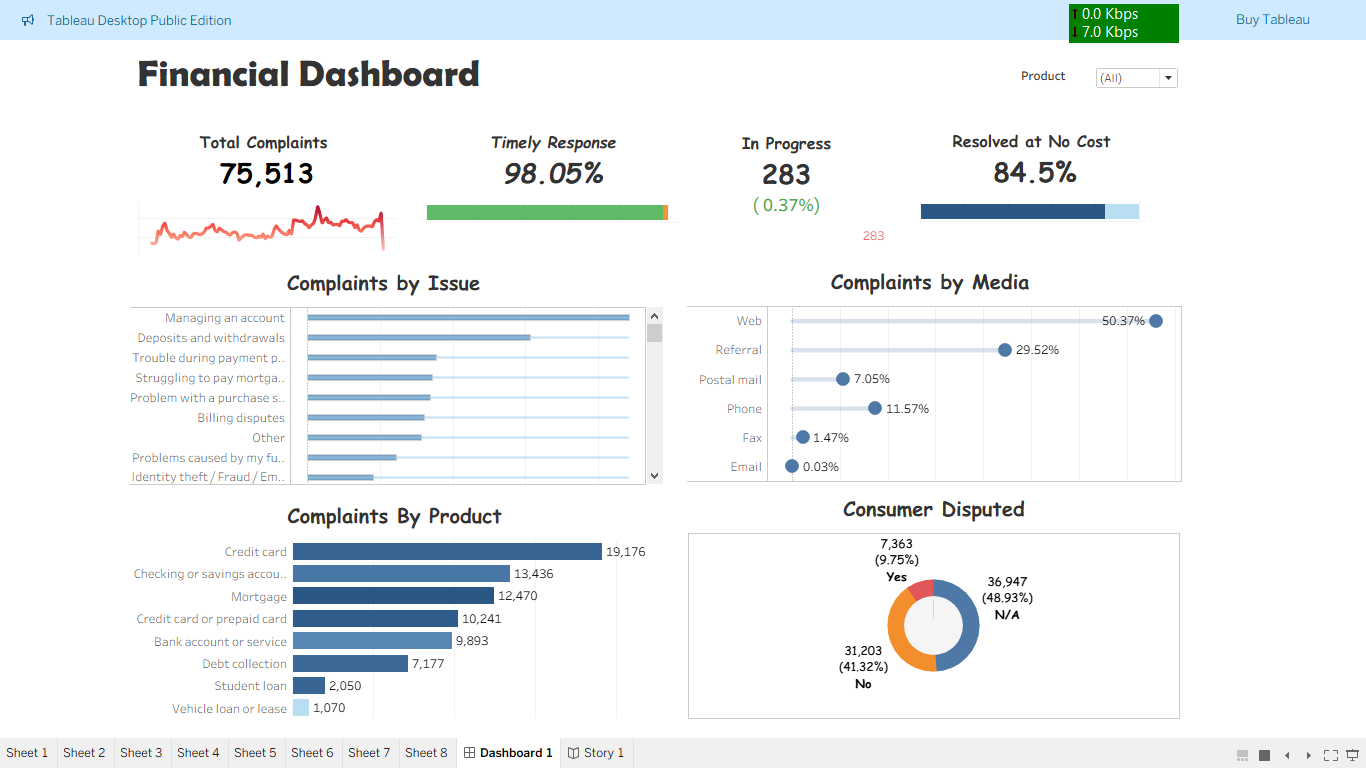

The dashboard page shown, as its layout file describes it:
{"tool":"tableau","page":{"name":"Dashboard 1","canvas":[1000,1000],"units":"permille","ordinal":0},"visuals":[{"type":"title","box":[7.1,14.3,985.7,89.3]},{"type":"filter","title":"Sheet 6","param":"[federated.0cny46g16v40021e6opbq0ngh6rz].[none:Product:nk]","box":[801.8,35.7,142.9,41.1]},{"type":"worksheet","title":"Sheet 4","mark":"Automatic","box":[711.6,121.4,205.4,194.6]},{"type":"worksheet","title":"Sheet 1","mark":"Automatic","rows":["Calculation_1524468536419446784"],"cols":["Date Sumbited"],"box":[13.4,123.2,230.4,185.7]},{"type":"worksheet","title":"Sheet 2","mark":"Automatic","box":[270.5,123.2,226.8,187.5]},{"type":"worksheet","title":"Sheet 3","mark":"Automatic","box":[501.8,125,181.2,167.9]},{"type":"worksheet","title":"Sheet 7","mark":"Bar","rows":["Submitted via"],"cols":["financial-consumer-complaints.csv_CA8F78B1ACB4404CBFC73CA19D"],"box":[503.6,319.6,442,314.3]},{"type":"worksheet","title":"Sheet 8","mark":"Automatic","rows":["Issue"],"cols":["financial-consumer-complaints.csv_CA8F78B1ACB4404CBFC73CA19D"],"box":[6.2,321.4,475.9,316.1]},{"type":"worksheet","title":"Sheet 5","mark":"Pie","rows":["Calculation_446137900703428612","Calculation_446137900703428612"],"box":[504.5,644.6,439.3,328.6]},{"type":"worksheet","title":"Sheet 6","mark":"Automatic","rows":["Product"],"cols":["financial-consumer-complaints.csv_CA8F78B1ACB4404CBFC73CA19D"],"box":[8,655.4,476.8,317.9]}]}

Visuals, with their boxes on the dashboard's canvas, which has no fixed pixel size, in thousandths of its width and height (x1, y1, x2, y2). These are canvas units, not pixel positions in the 1366x768 screenshot, which may show the page scaled, cropped or inside an application window:
title: pyautogui.locateOnScreen(7, 14, 993, 104)
"Sheet 6" filter: pyautogui.locateOnScreen(802, 36, 945, 77)
"Sheet 4" worksheet: pyautogui.locateOnScreen(712, 121, 917, 316)
"Sheet 1" worksheet: pyautogui.locateOnScreen(13, 123, 244, 309)
"Sheet 2" worksheet: pyautogui.locateOnScreen(270, 123, 497, 311)
"Sheet 3" worksheet: pyautogui.locateOnScreen(502, 125, 683, 293)
"Sheet 7" worksheet (Bar marks): pyautogui.locateOnScreen(504, 320, 946, 634)
"Sheet 8" worksheet: pyautogui.locateOnScreen(6, 321, 482, 638)
"Sheet 5" worksheet (Pie marks): pyautogui.locateOnScreen(504, 645, 944, 973)
"Sheet 6" worksheet: pyautogui.locateOnScreen(8, 655, 485, 973)
